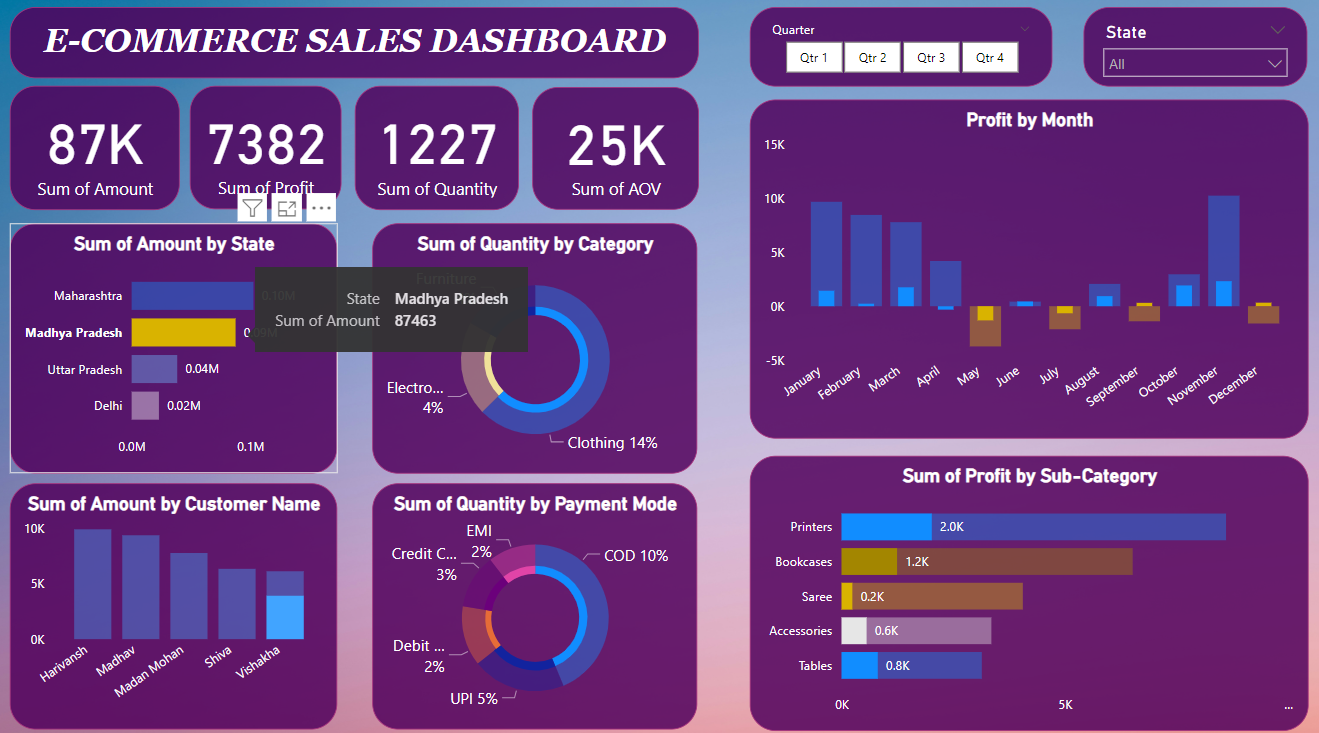

This screenshot's page, from the dashboard's own definition file:
{"tool":"powerbi","page":{"name":"Page 1","canvas":[1280,720],"ordinal":0},"visuals":[{"type":"textbox","box":[13.3,14.5,664.5,68.7],"z":0},{"type":"columnChart","title":"Profit by Month","fields":{"Category":["Orders.Order Date.Variation.Date Hierarchy.Month"],"Y":["Sum(Details.Profit)"]},"box":[727.2,103.7,539.1,326.8],"z":1000},{"type":"barChart","fields":{"Category":["Details.Sub-Category"],"Y":["Sum(Details.Profit)"]},"box":[726,445,539.1,266.5],"z":2000},{"type":"donutChart","fields":{"Category":["Details.Category"],"Y":["Sum(Details.Quantity)"]},"box":[363,223.1,313.6,241.2],"z":3000},{"type":"donutChart","title":"Sum of Quantity by Payment Mode","fields":{"Y":["Sum(Details.Quantity)"],"Category":["Details.PaymentMode"]},"box":[362.5,473.9,313.6,238.6],"z":4000},{"type":"card","fields":{"Values":["Sum(Details.Amount)"]},"box":[13,91,164,120],"z":5000},{"type":"card","fields":{"Values":["Sum(Details.Quantity)"]},"box":[346,90,158,120],"z":6000},{"type":"card","fields":{"Values":["Sum(Details.Profit)"]},"box":[187,91,146,119],"z":7000},{"type":"card","fields":{"Values":["Sum(Details.AOV)"]},"box":[517,92,161,118],"z":8000},{"type":"barChart","fields":{"Category":["Orders.State"],"Y":["Sum(Details.Amount)"]},"box":[13.3,223.1,316,241.2],"z":9000},{"type":"columnChart","title":"Sum of Amount by Customer Name","fields":{"Category":["Orders.CustomerName"],"Y":["Sum(Details.Amount)"]},"box":[13.6,473.9,315.9,238.6],"z":10000},{"type":"slicer","fields":{"Values":["Orders.Order Date.Variation.Date Hierarchy.Quarter"]},"box":[727.2,14.5,291.9,77.2],"z":11000},{"type":"slicer","fields":{"Values":["Orders.State"]},"box":[1049.2,14.5,215.9,77.2],"z":12000}]}

Visuals, with their boxes in screenshot pixels (x1, y1, x2, y2), scaled from the page's 1280x720 canvas onto the 1319x733 screenshot:
textbox: BBox(14, 15, 698, 85)
"Profit by Month" columnChart: BBox(749, 106, 1305, 438)
barChart - Details.Sub-Category x Sum(Details.Profit): BBox(748, 453, 1304, 724)
donutChart - Details.Category x Sum(Details.Quantity): BBox(374, 227, 697, 473)
"Sum of Quantity by Payment Mode" donutChart: BBox(374, 482, 697, 725)
card - Sum(Details.Amount): BBox(13, 93, 182, 215)
card - Sum(Details.Quantity): BBox(357, 92, 519, 214)
card - Sum(Details.Profit): BBox(193, 93, 343, 214)
card - Sum(Details.AOV): BBox(533, 94, 699, 214)
barChart - Orders.State x Sum(Details.Amount): BBox(14, 227, 339, 473)
"Sum of Amount by Customer Name" columnChart: BBox(14, 482, 340, 725)
slicer - Orders.Order Date.Variation.Date Hierarchy.Quarter: BBox(749, 15, 1050, 93)
slicer - Orders.State: BBox(1081, 15, 1304, 93)
